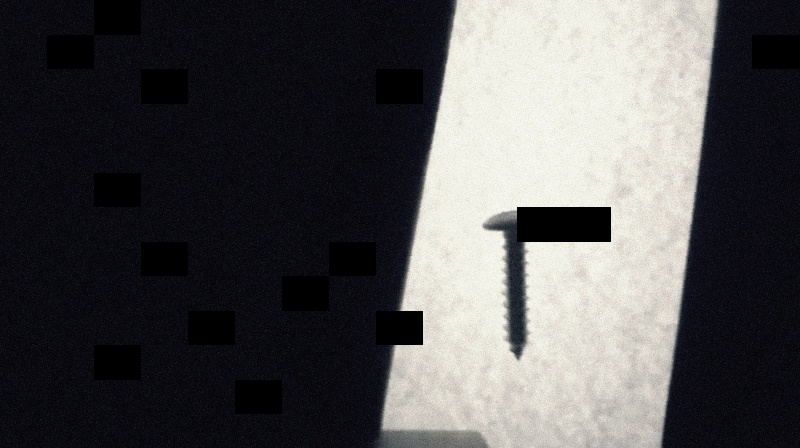S003: (476, 205, 552, 361)
